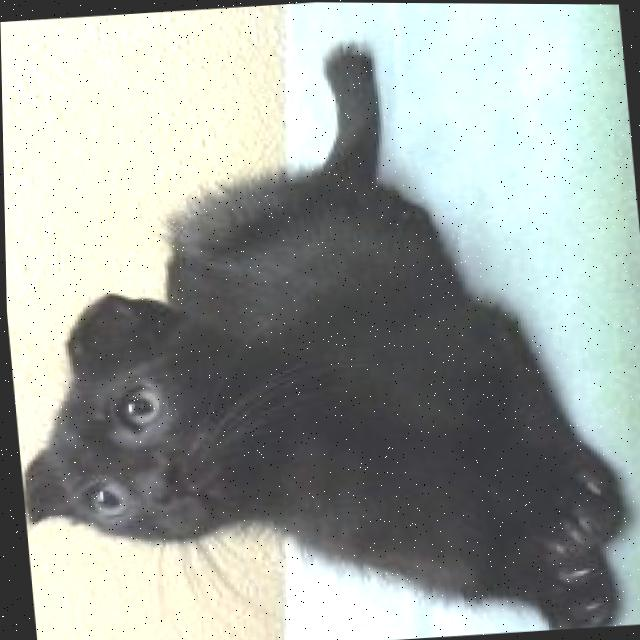Scottish Fold: (0, 19, 633, 640)
